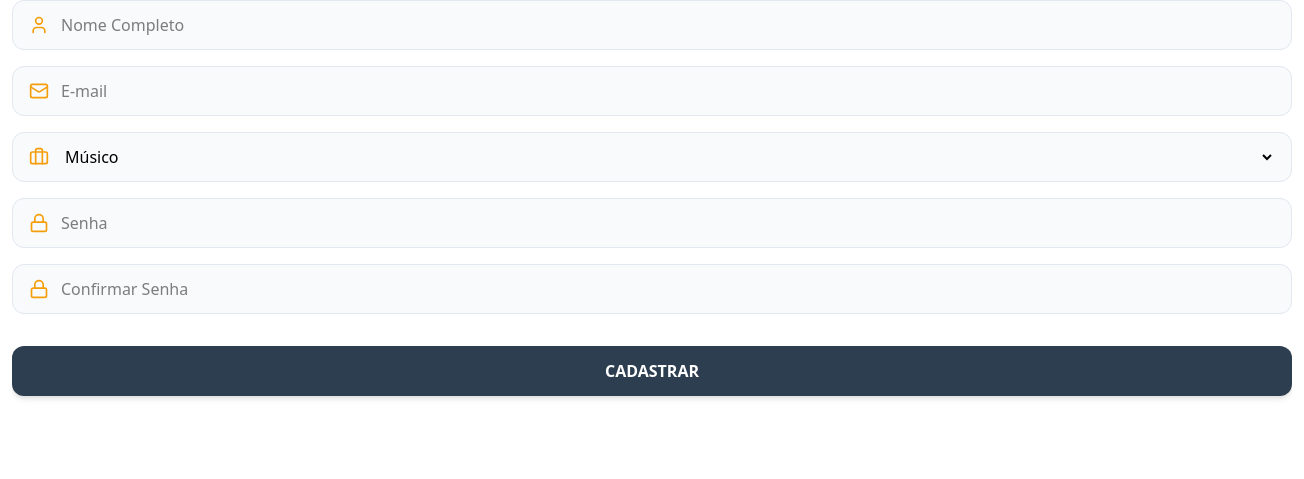
Scenario: Register Integration › Casos Negativos › deve exibir mensagem de erro da API do backend em caso de falha HTTP 400
In the field with placeholder "Nome Completo": point(668, 25) [61,13,1275,37], type "Lucas David"
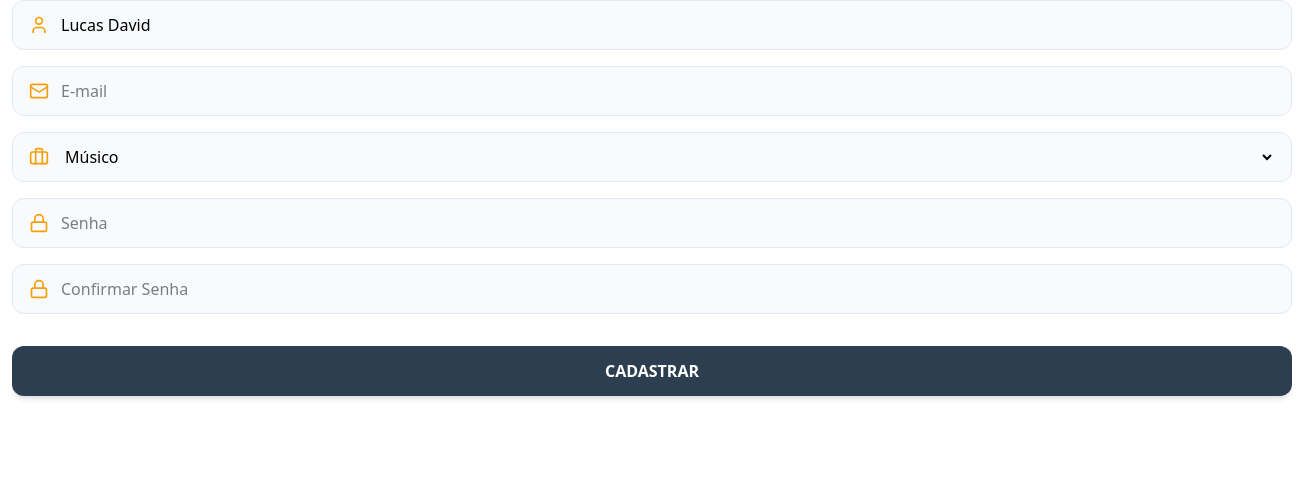
In the field with placeholder "E-mail": point(668, 91) [61,79,1275,103], type "duplicado@myroadie.br"
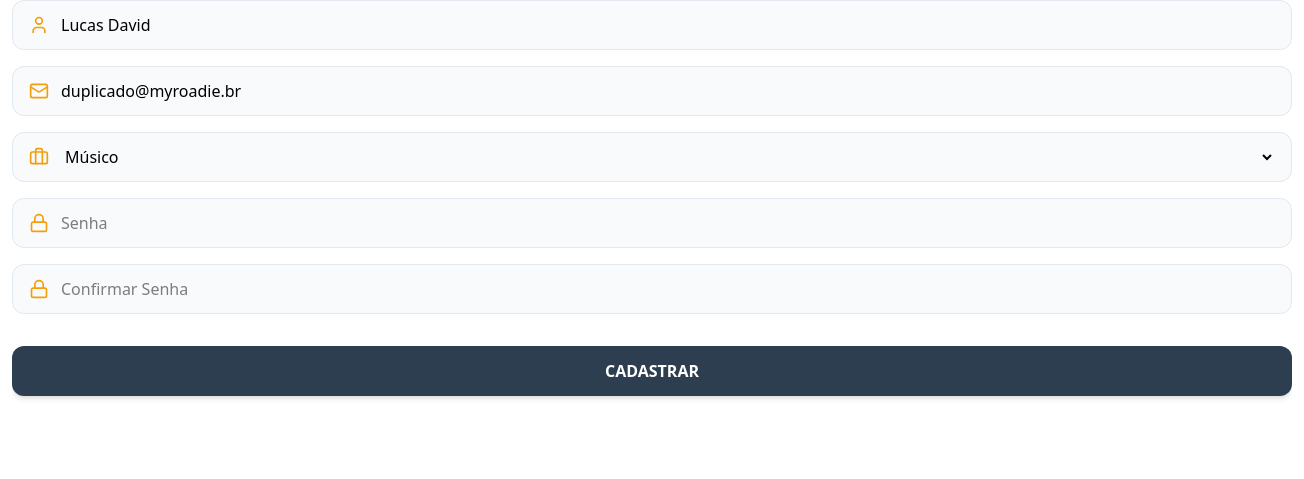
In the password field with placeholder "Senha": point(668, 223) [61,211,1275,235], type "123456"
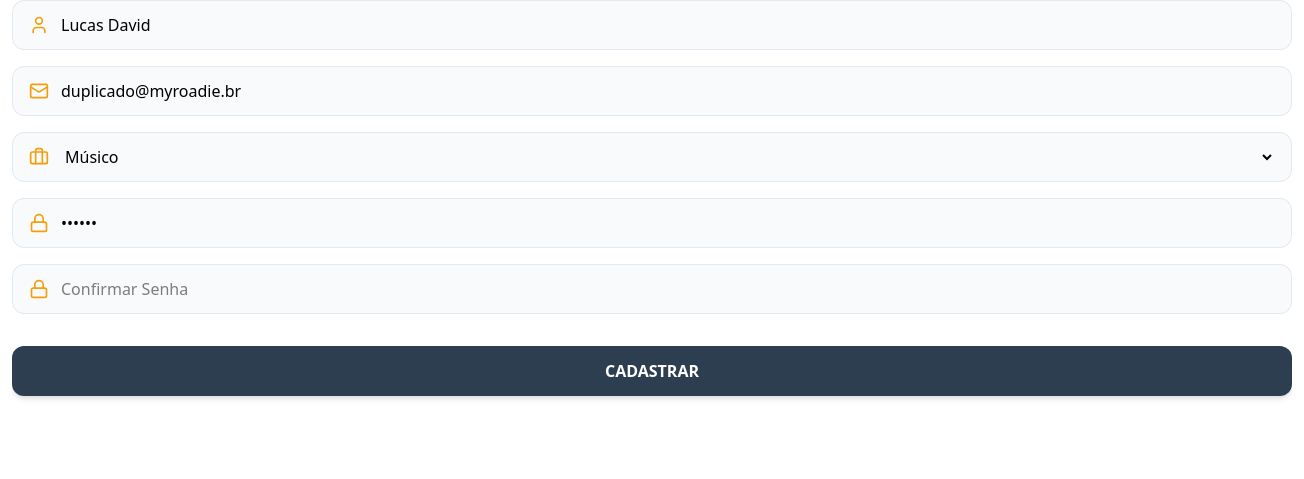
In the password field with placeholder "Confirmar Senha": point(668, 289) [61,277,1275,301], type "123456"
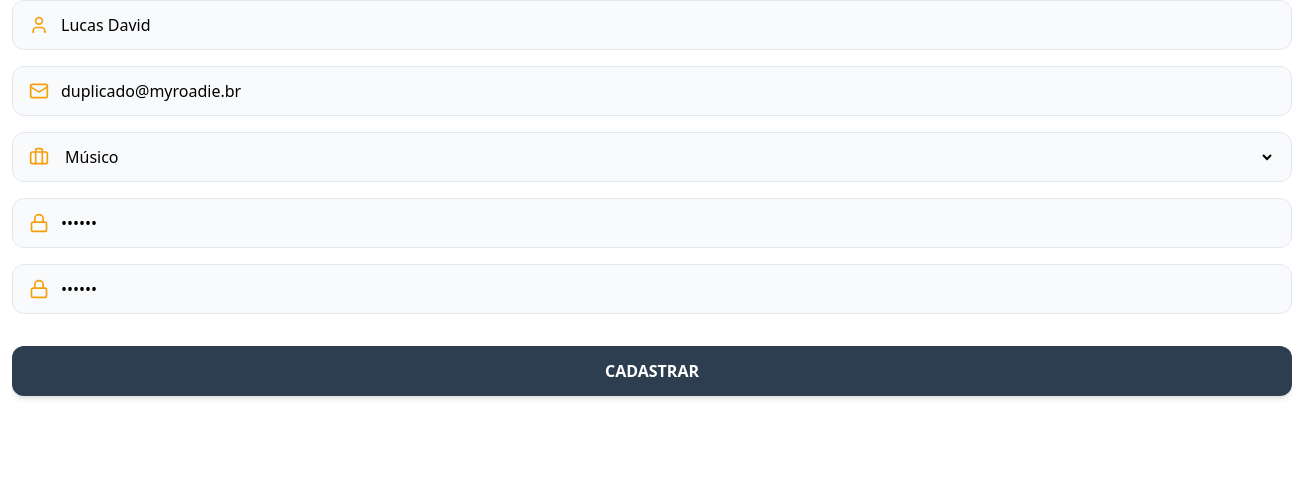
Click the button "CADASTRAR": point(652, 371) [12,346,1292,396]
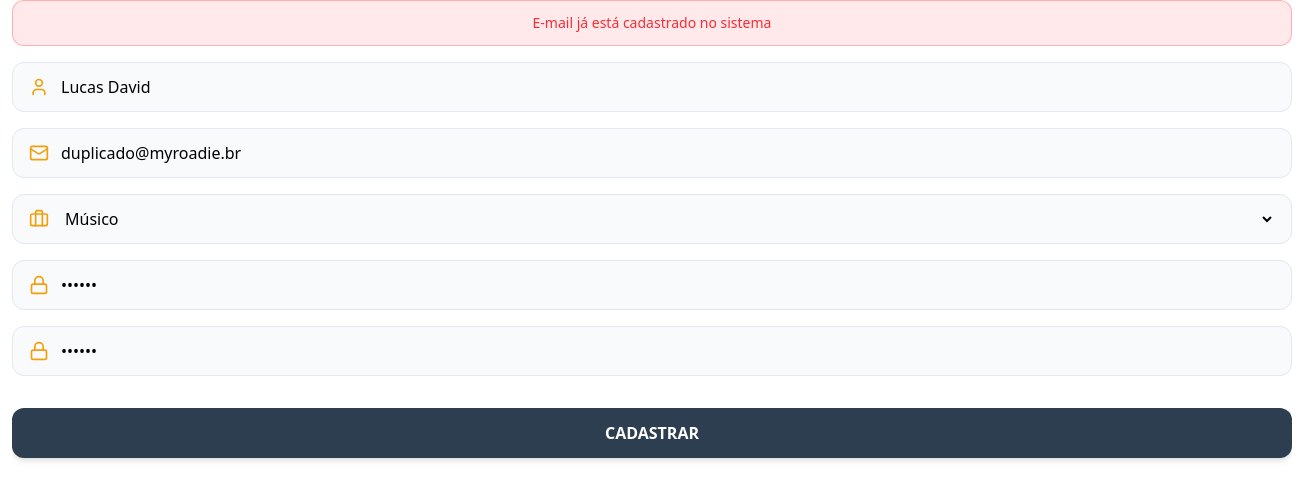
Now the message reads "E-mail já está cadastrado no sistema", box [532,13,771,32]
